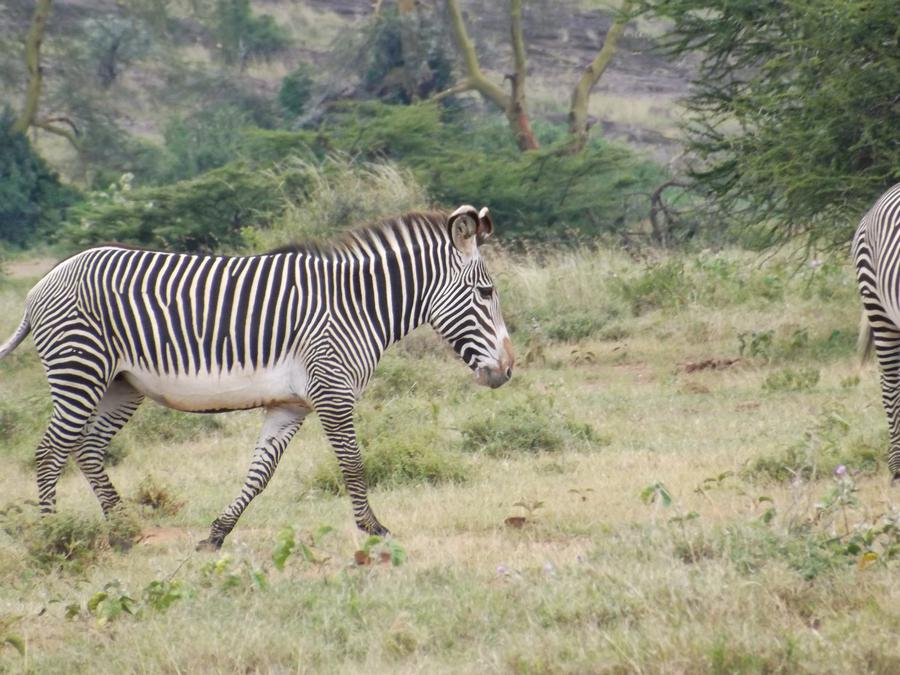zebra_grevys: (21, 249, 360, 395)
